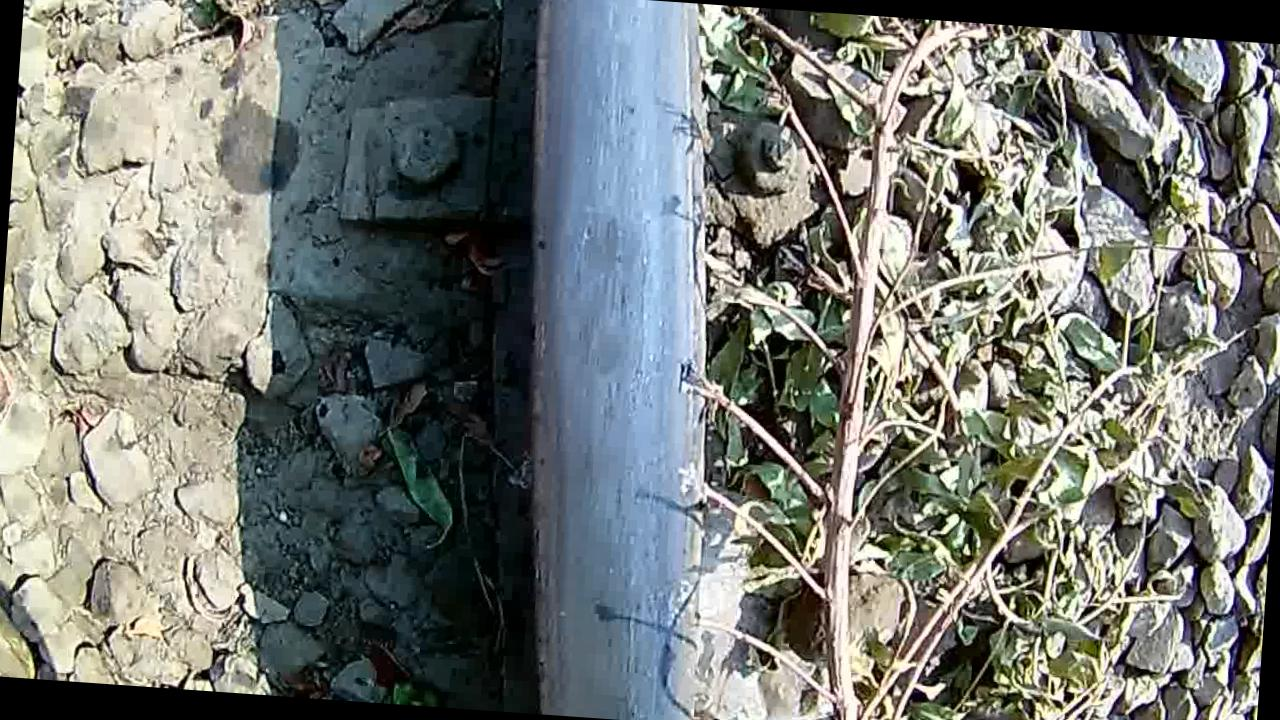bolt_missing: (514, 150, 701, 518)
